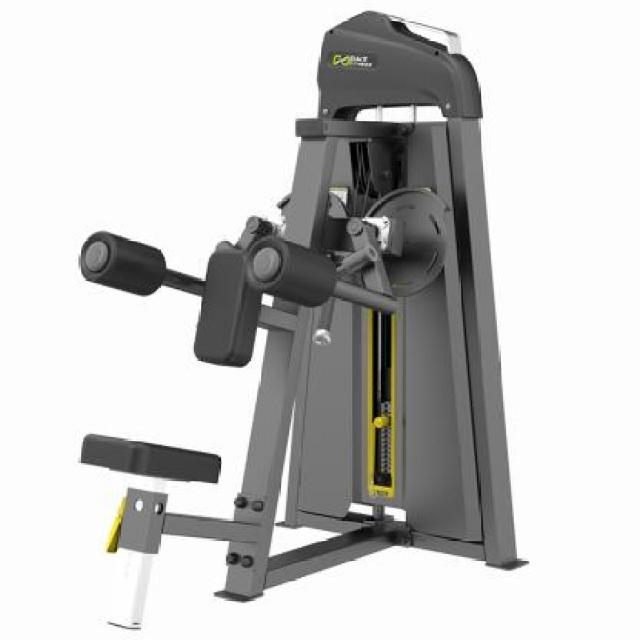lateral raises machine: (78, 9, 530, 629)
